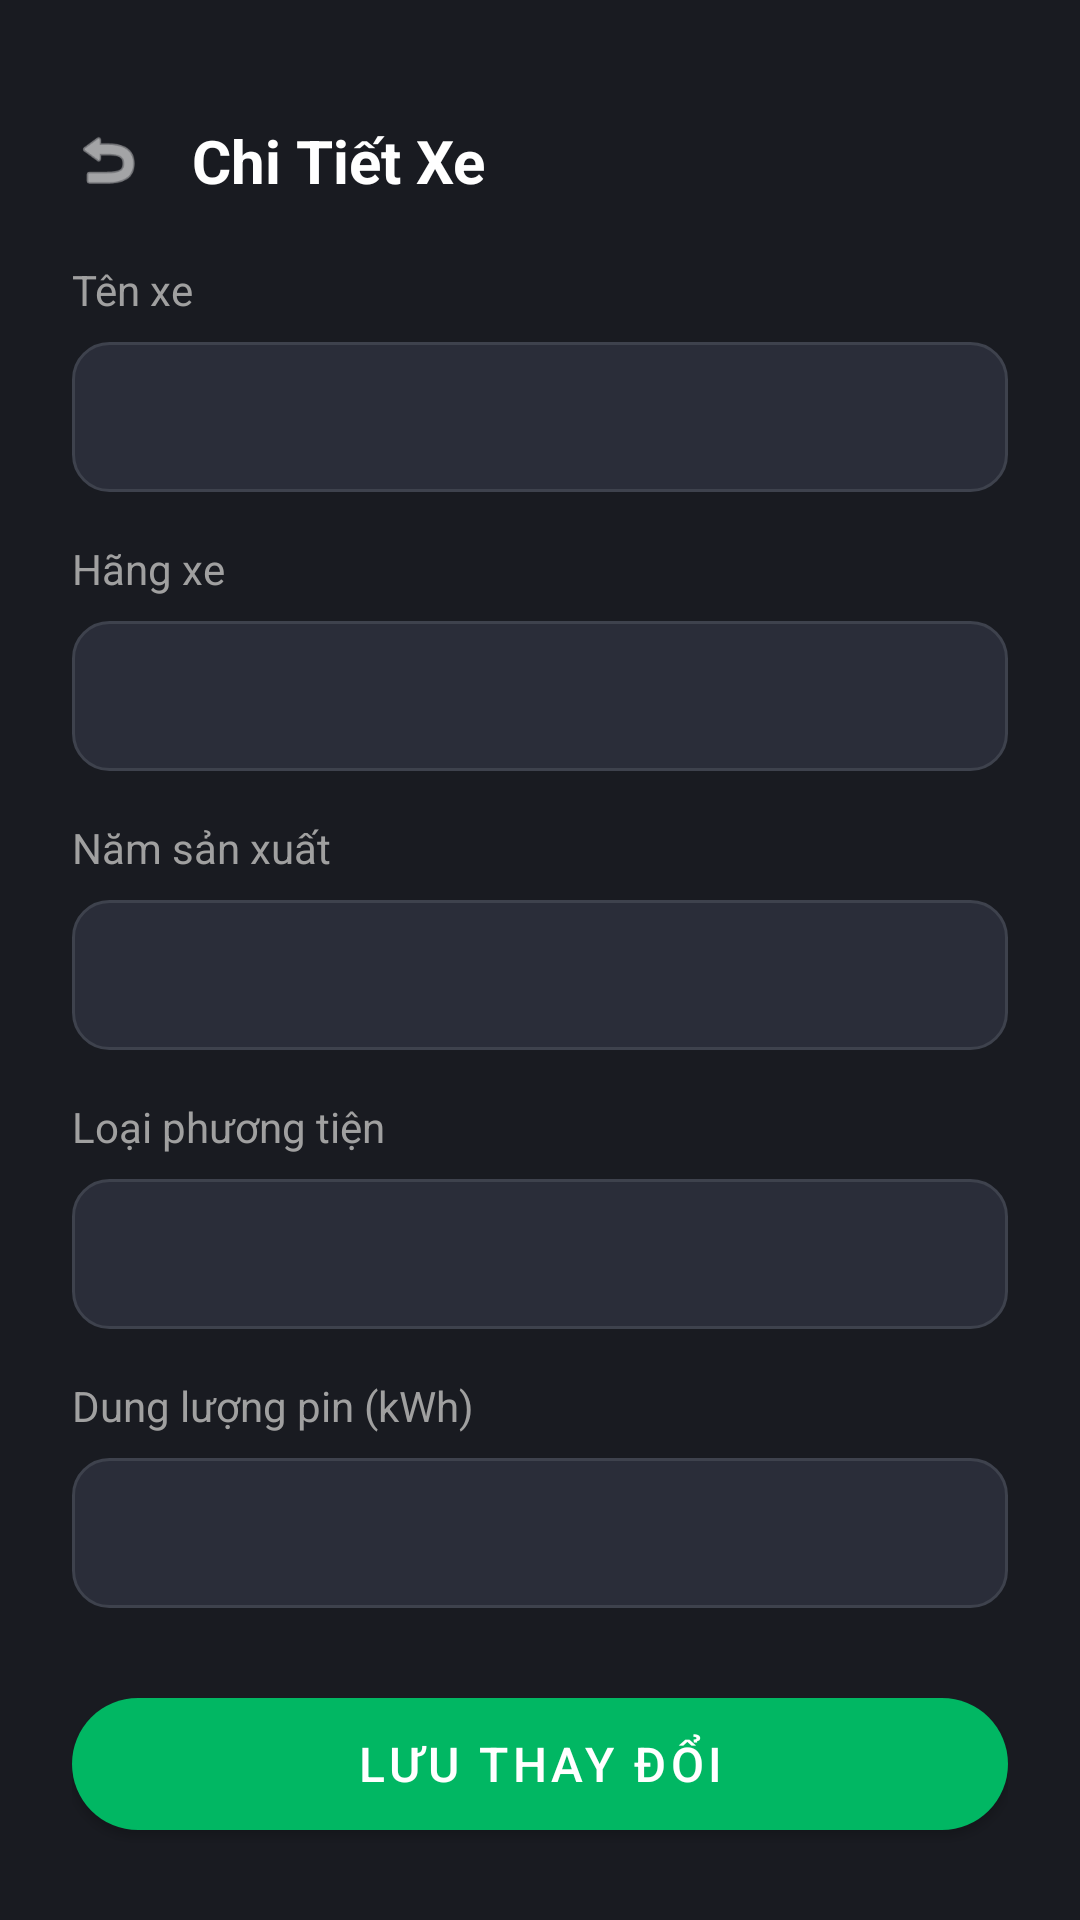

Where icons sit on this 1080w x 1920h app screen, as (x1, y1, x2, y2):
revert: (83, 137, 135, 184)
